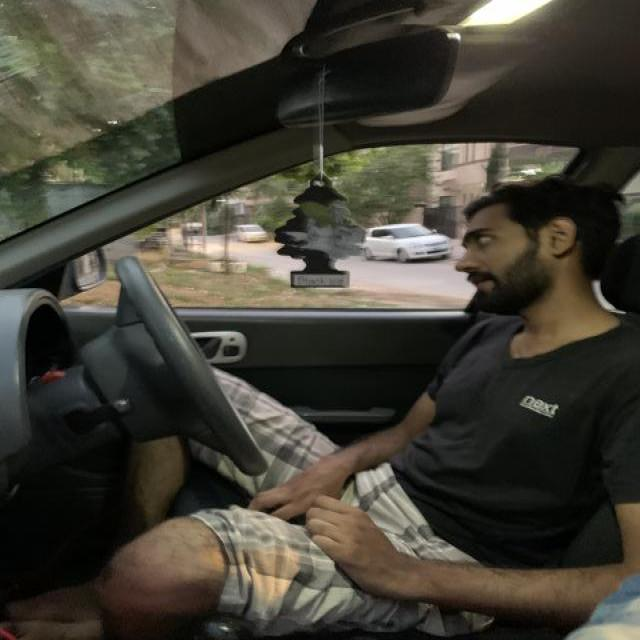no-seatbelt: (427, 305, 620, 580)
